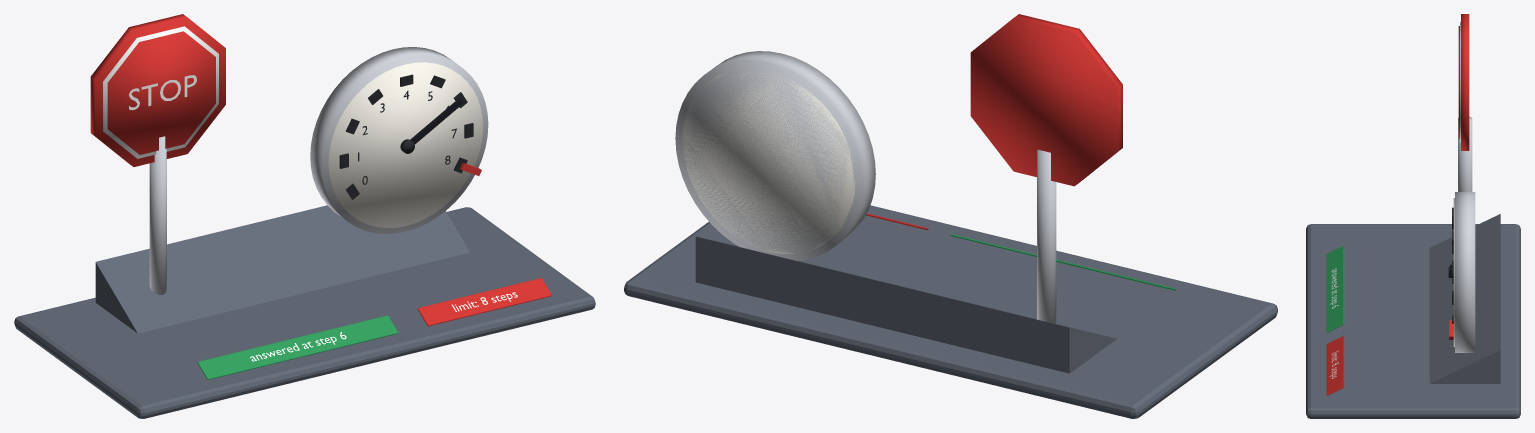
File: stop.glb
3 views of the same model, side by side, from view 1: azimuth 30°, elevation 25°; view 2: azimuth 150°, elevation 25°; view 3: azimuth 270°, elevation 25° (orthographic). The views are drawn at different scales.
Parts seen in each view (by area): view 1: stand, slope, face.001, octagon, case, a_p, b_p, pole, rim, t0, s; view 2: stand, case, face.001, octagon, slope, pole, a_p; view 3: stand, slope, case, a_p, octagon, b_p, pole, face.001, t0.
Boxes of the visible parts, x1=… form: stand: x1=14, y1=207, x2=595, y2=418; slope: x1=95, y1=205, x2=469, y2=333; face.001: x1=328, y1=62, x2=482, y2=227; octagon: x1=90, y1=14, x2=225, y2=166; case: x1=310, y1=47, x2=488, y2=233; a_p: x1=197, y1=315, x2=398, y2=379; b_p: x1=417, y1=278, x2=551, y2=326; pole: x1=149, y1=136, x2=166, y2=294; rim: x1=103, y1=26, x2=218, y2=158; t0: x1=339, y1=74, x2=473, y2=199; s: x1=129, y1=75, x2=196, y2=110; stand: x1=624, y1=205, x2=1277, y2=418; case: x1=675, y1=51, x2=875, y2=260; face.001: x1=682, y1=71, x2=855, y2=253; octagon: x1=970, y1=14, x2=1122, y2=186; slope: x1=695, y1=236, x2=1116, y2=373; pole: x1=1037, y1=149, x2=1056, y2=323; a_p: x1=950, y1=234, x2=1176, y2=290; stand: x1=1306, y1=224, x2=1520, y2=418; slope: x1=1429, y1=214, x2=1500, y2=383; case: x1=1455, y1=192, x2=1475, y2=352; a_p: x1=1326, y1=245, x2=1344, y2=332; octagon: x1=1458, y1=14, x2=1469, y2=150; b_p: x1=1326, y1=336, x2=1344, y2=395; pole: x1=1458, y1=116, x2=1472, y2=191; face.001: x1=1453, y1=198, x2=1454, y2=346; t0: x1=1448, y1=207, x2=1453, y2=323.
Bounding box in the file's own units: 1.1 × 0.697 × 0.5332.
